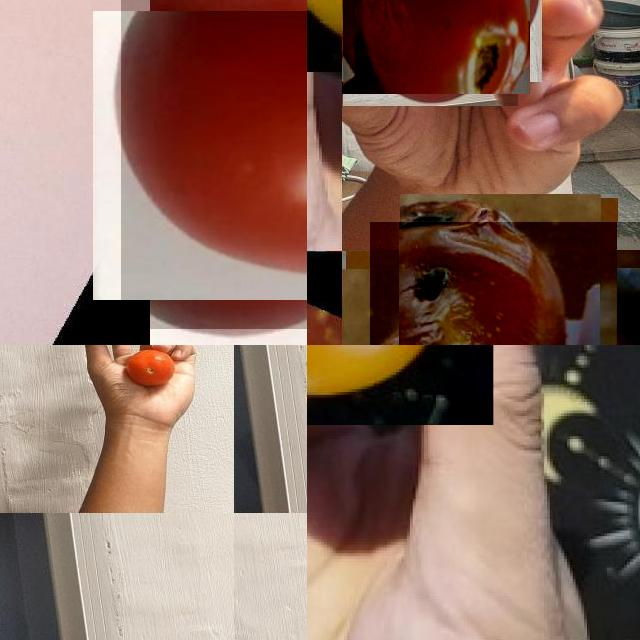Fresh Tomato: (121, 0, 307, 329)
Rotten Tomato: (370, 222, 640, 345), (342, 0, 530, 94)
